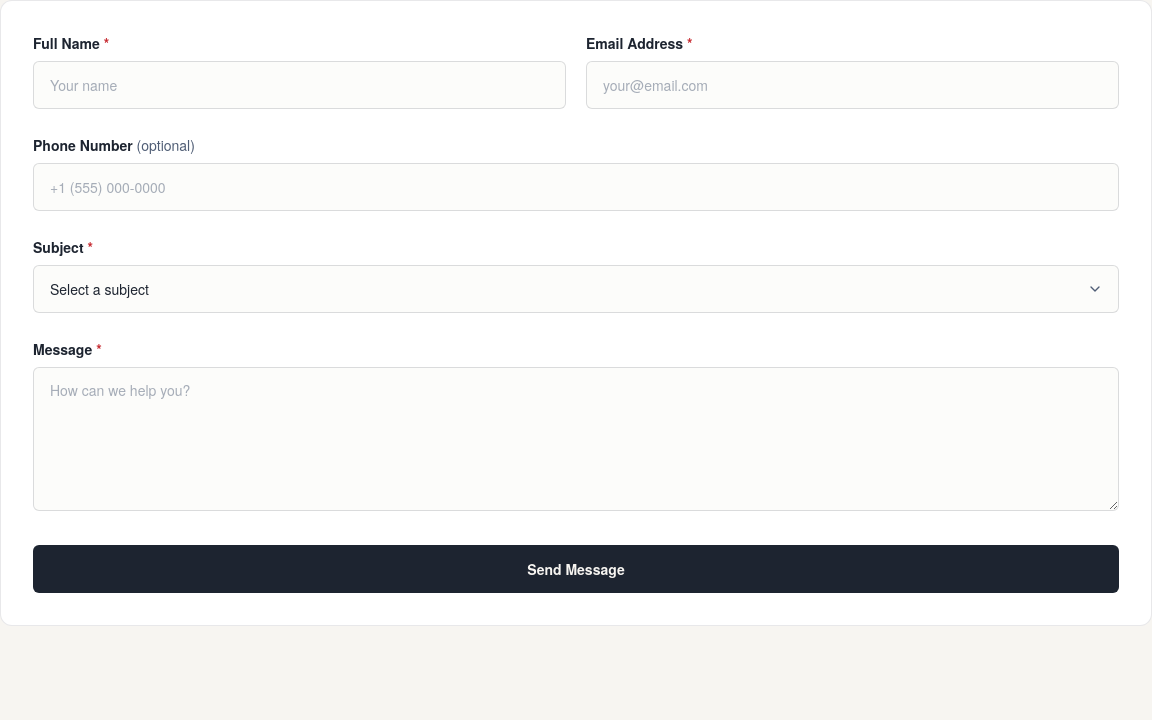
it: ContactForm › shows validation errors and does not submit when the form is empty
Click the button "Send Message". click: (576, 569)
box: [33,545,1119,593]
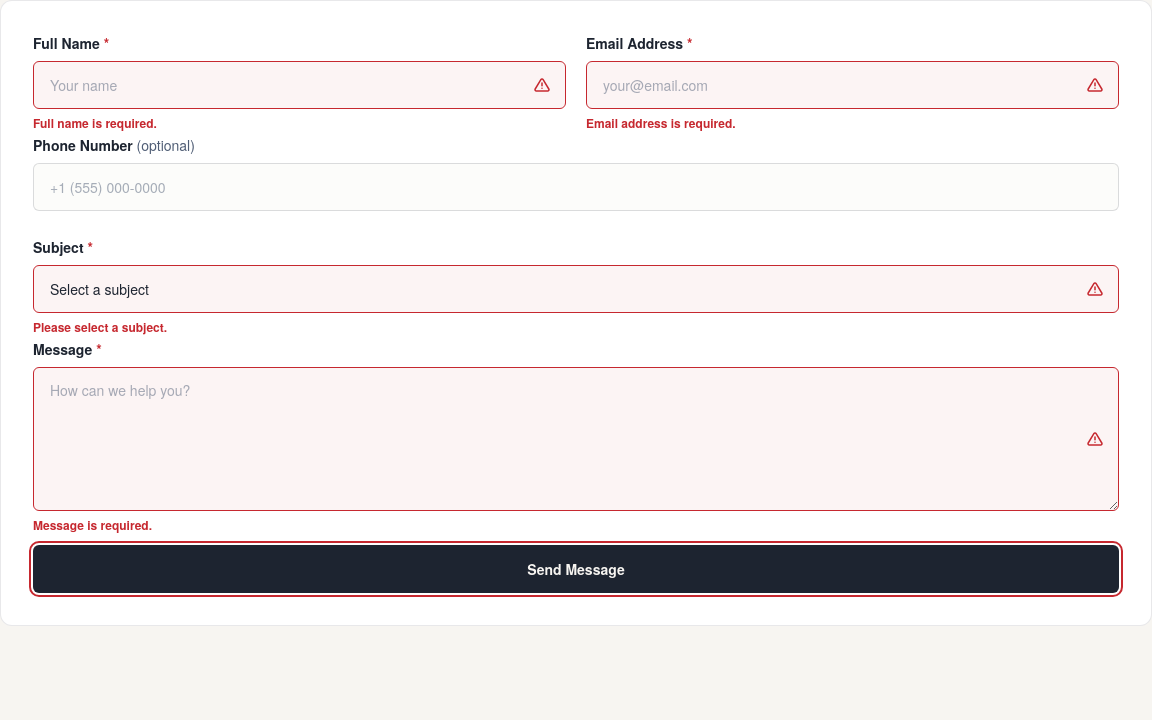
Now the text "Full name is required." is shown, box [33,114,157,132]
Now the text "Email address is required." is shown, box [586,114,736,132]
Now the text "Please select a subject." is shown, box [33,318,167,336]
